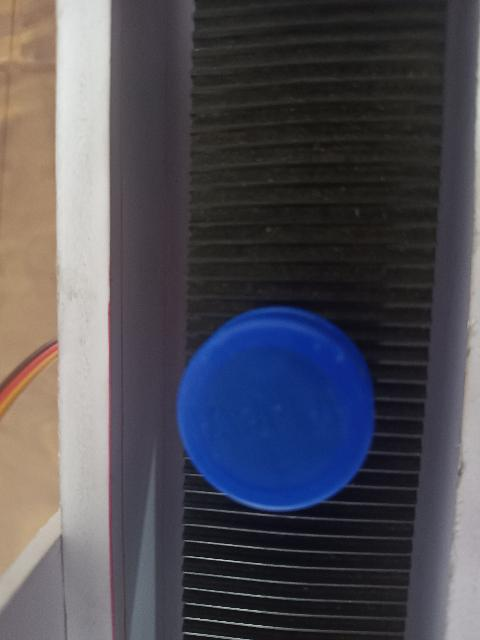bottlecap: (174, 300, 378, 516)
